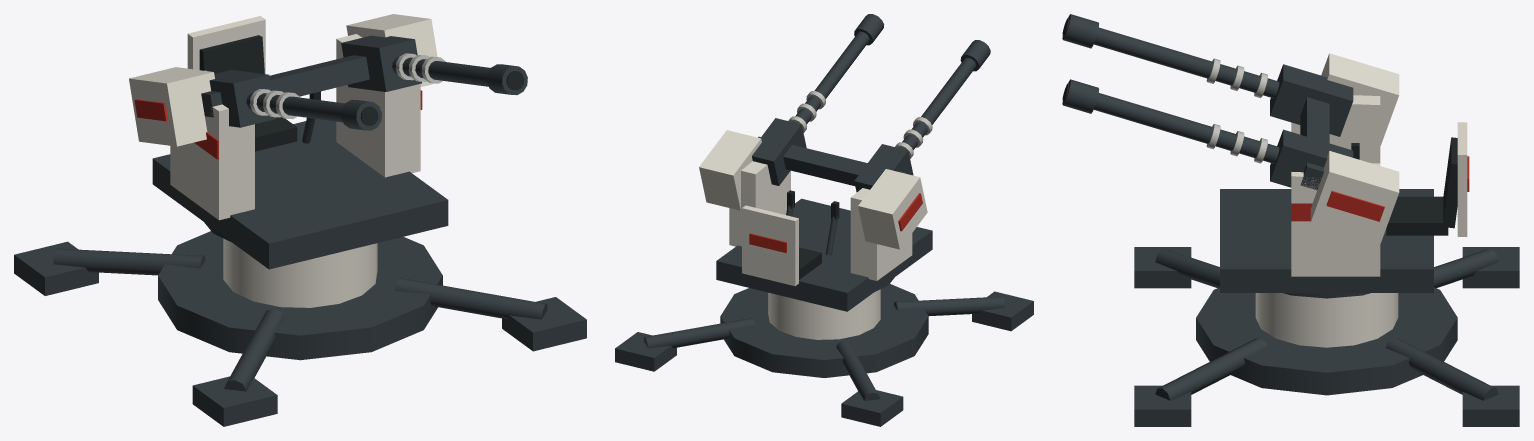
3 views of the same model, side by side, from view 1: azimuth 30°, elevation 25°; view 2: azimuth 150°, elevation 25°; view 3: azimuth 270°, elevation 25° (orthographic). The views are drawn at different scales.
Parts seen in each view (by area): view 1: aa-gun-manned-fleet-machine, turret-fleet-machine, turret-fleet-armor, aa-gun-manned-fleet-armor, elevation-fleet-armor, aa-barrel-right-fleet-machine, aa-barrel-left-fleet-machine, turret-fleet-rubber, elevation-fleet-machine, breakaway-0-painted, aa-barrel-right-fleet-edge, aa-barrel-left-fleet-edge (+1 smaller); view 2: aa-gun-manned-fleet-machine, turret-fleet-machine, elevation-fleet-armor, turret-fleet-armor, aa-barrel-right-fleet-machine, aa-gun-manned-fleet-armor, breakaway-0-painted, aa-barrel-left-fleet-machine, elevation-fleet-machine, turret-fleet-rubber, aa-barrel-left-fleet-edge, aa-barrel-right-fleet-edge (+1 smaller); view 3: aa-gun-manned-fleet-machine, turret-fleet-machine, elevation-fleet-armor, aa-barrel-left-fleet-machine, turret-fleet-armor, aa-gun-manned-fleet-armor, aa-barrel-right-fleet-machine, turret-fleet-rubber, elevation-fleet-machine, breakaway-0-painted, elevation-fleet-red, aa-barrel-left-fleet-edge (+2 smaller).
Part boxes in pixels (left/top/right/bottom): aa-gun-manned-fleet-machine: left=14, top=222, right=586, bottom=426; turret-fleet-machine: left=152, top=117, right=448, bottom=269; turret-fleet-armor: left=170, top=34, right=420, bottom=220; aa-gun-manned-fleet-armor: left=223, top=238, right=377, bottom=307; elevation-fleet-armor: left=129, top=14, right=437, bottom=146; aa-barrel-right-fleet-machine: left=341, top=35, right=527, bottom=95; aa-barrel-left-fleet-machine: left=209, top=69, right=381, bottom=130; turret-fleet-rubber: left=199, top=35, right=320, bottom=151; elevation-fleet-machine: left=201, top=55, right=369, bottom=117; breakaway-0-painted: left=187, top=16, right=265, bottom=74; aa-barrel-right-fleet-edge: left=395, top=53, right=445, bottom=83; aa-barrel-left-fleet-edge: left=250, top=89, right=300, bottom=119; aa-gun-manned-fleet-machine: left=615, top=277, right=1033, bottom=426; turret-fleet-machine: left=716, top=198, right=932, bottom=311; elevation-fleet-armor: left=699, top=130, right=927, bottom=249; turret-fleet-armor: left=729, top=161, right=912, bottom=280; aa-barrel-right-fleet-machine: left=752, top=14, right=884, bottom=185; aa-gun-manned-fleet-armor: left=768, top=289, right=880, bottom=339; breakaway-0-painted: left=742, top=205, right=798, bottom=286; aa-barrel-left-fleet-machine: left=854, top=40, right=990, bottom=192; elevation-fleet-machine: left=758, top=136, right=906, bottom=185; turret-fleet-rubber: left=787, top=190, right=839, bottom=279; aa-barrel-left-fleet-edge: left=895, top=117, right=932, bottom=158; aa-barrel-right-fleet-edge: left=788, top=91, right=825, bottom=132; aa-gun-manned-fleet-machine: left=1134, top=247, right=1519, bottom=426; turret-fleet-machine: left=1220, top=189, right=1433, bottom=292; elevation-fleet-armor: left=1310, top=53, right=1399, bottom=243; aa-barrel-left-fleet-machine: left=1062, top=14, right=1353, bottom=136; turret-fleet-armor: left=1291, top=95, right=1380, bottom=276; aa-gun-manned-fleet-armor: left=1255, top=293, right=1398, bottom=347; aa-barrel-right-fleet-machine: left=1062, top=79, right=1353, bottom=187; turret-fleet-rubber: left=1351, top=137, right=1457, bottom=235; elevation-fleet-machine: left=1300, top=97, right=1329, bottom=190; breakaway-0-painted: left=1457, top=122, right=1467, bottom=236; elevation-fleet-red: left=1326, top=191, right=1384, bottom=221; aa-barrel-left-fleet-edge: left=1206, top=58, right=1267, bottom=98.
Bounding box in the file's own units: 16.77 × 14.29 × 19.9.
